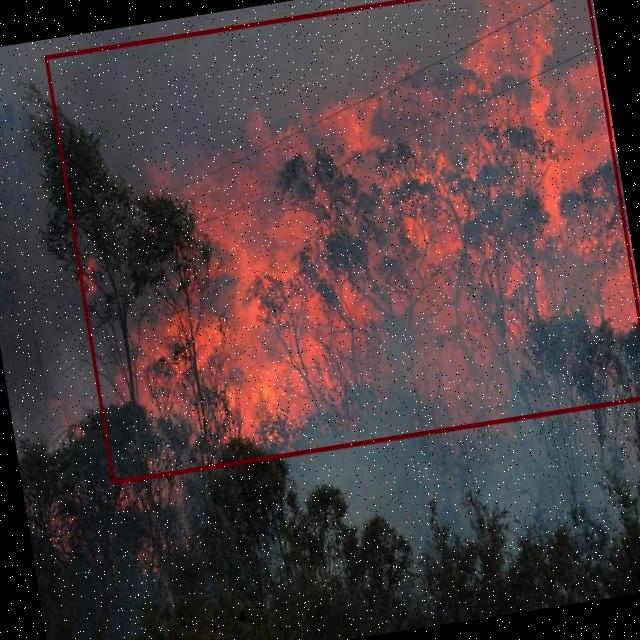fire: (45, 0, 640, 483)
